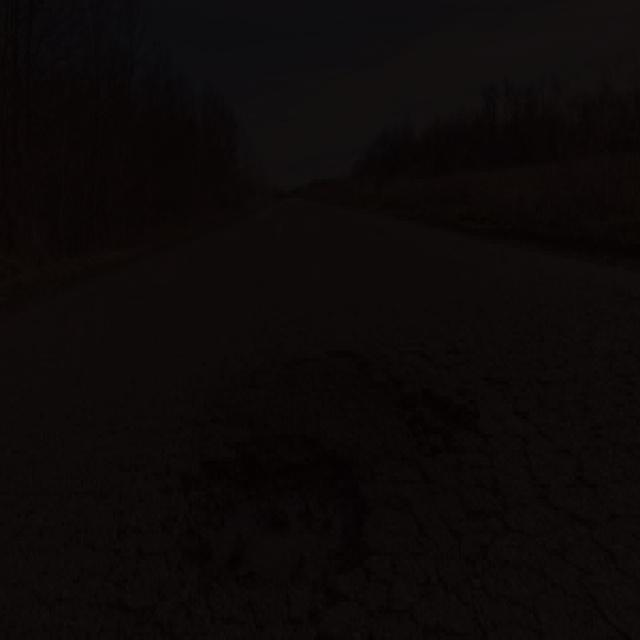Pothole: (153, 433, 393, 598)
